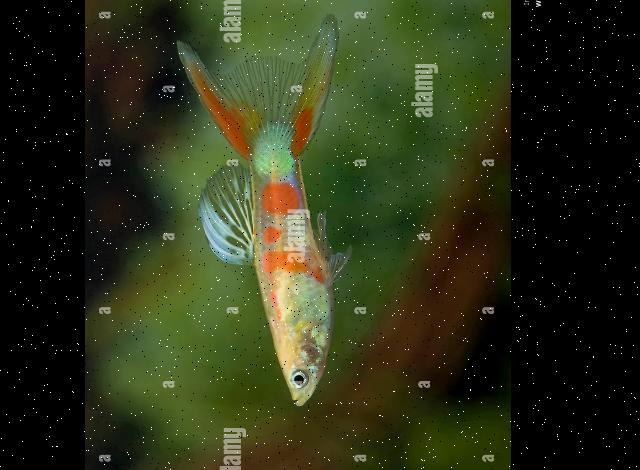Mulut: (279, 377, 319, 423)
Sirip Anal: (308, 204, 336, 258), (326, 239, 358, 286)
Sirip Dada: (274, 282, 334, 341)
Sirip Ekor: (175, 6, 337, 160)
Sirip Punggung: (197, 160, 263, 265)
